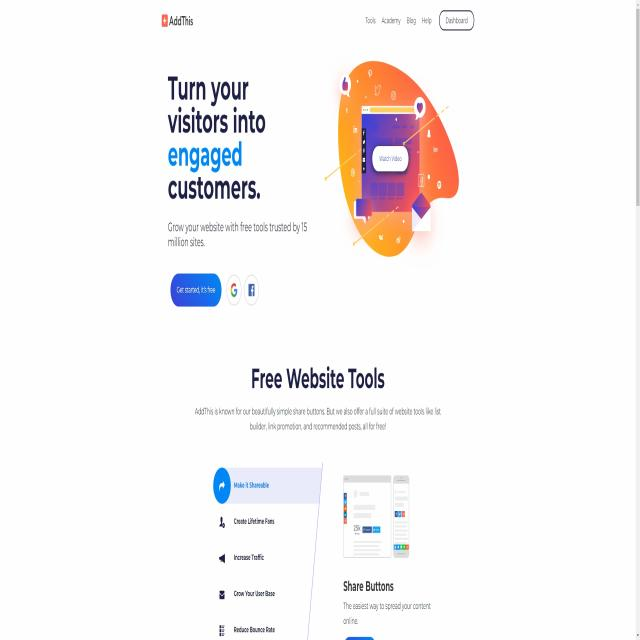menu-bar: (362, 10, 477, 32)
